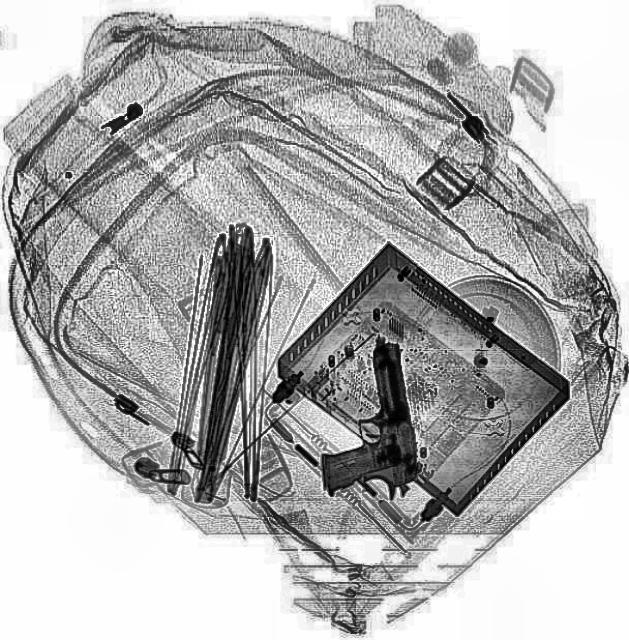Gun: (296, 338, 426, 510)
